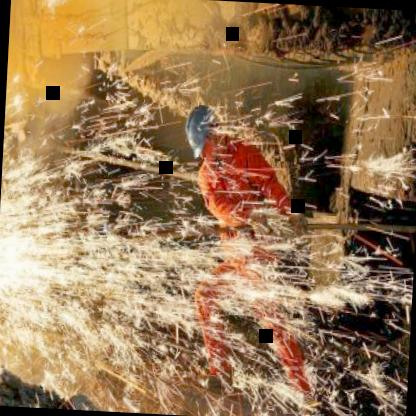helmet: (184, 96, 228, 172)
